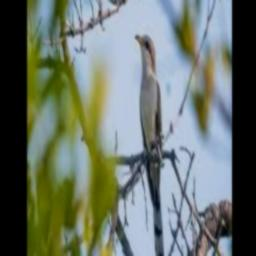Cuckoo: (134, 33, 164, 256)
